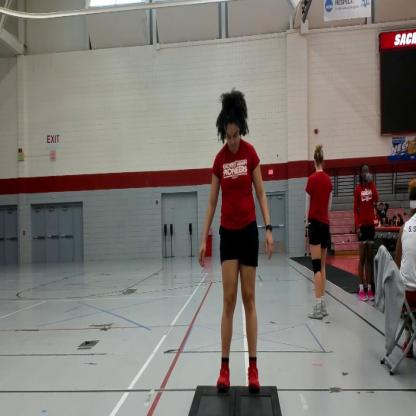lateral_flexion_right: (198, 87, 275, 401)
stance_width_normal: (198, 135, 274, 400)
